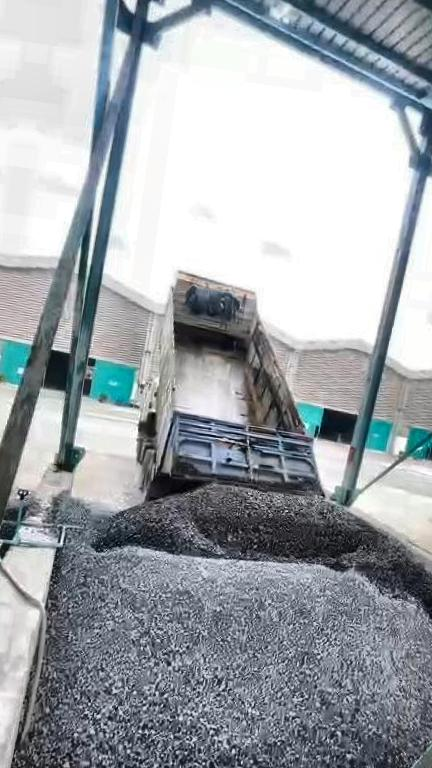gravel: (6, 489, 432, 768), (92, 484, 432, 657)
